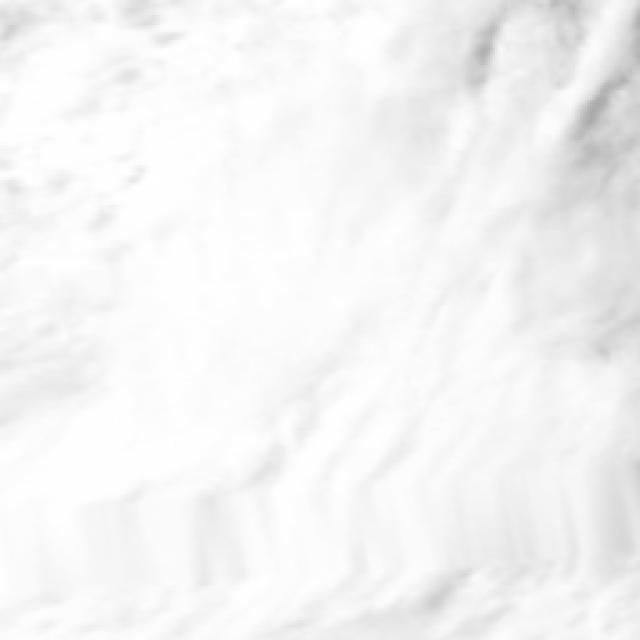CB: (5, 5, 480, 640)
